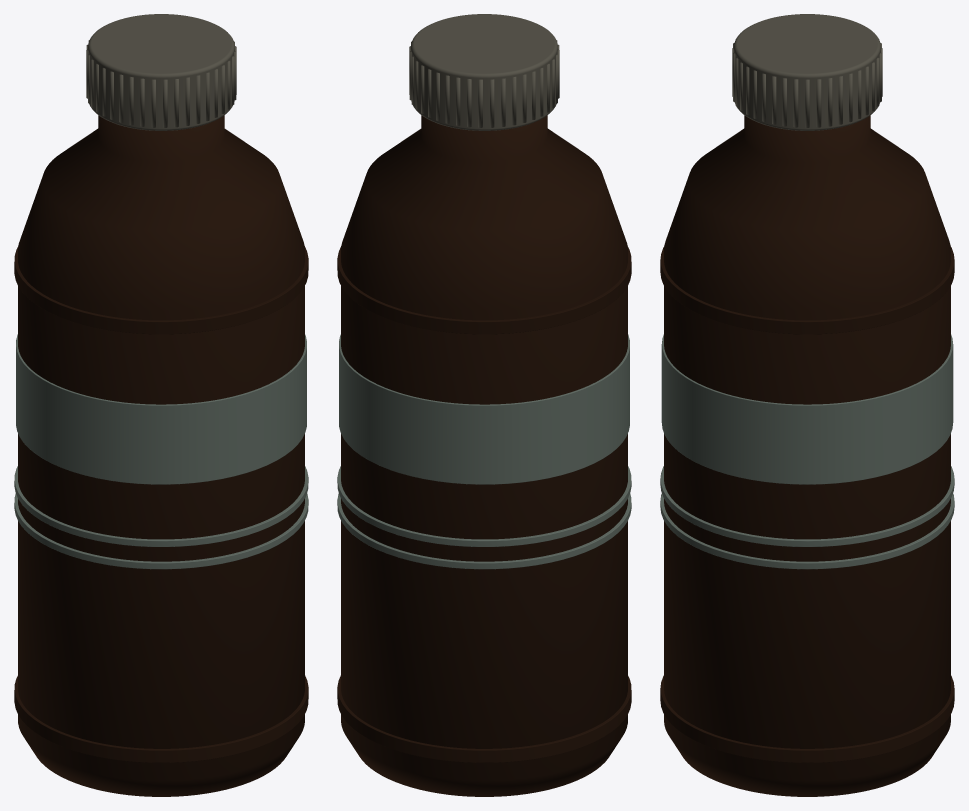
The model's file is C04_StopBottle.fbx.
3 renders of one model, left to right at view 1: azimuth 30°, elevation 25°; view 2: azimuth 150°, elevation 25°; view 3: azimuth 270°, elevation 25°, orthographic.
Visible parts, largest first — view 1: Body_Mesh, BottleCap_Mesh; view 2: Body_Mesh, BottleCap_Mesh; view 3: Body_Mesh, BottleCap_Mesh.
Boxes of the visible parts, box(x1,y1,x2,y2) form: Body_Mesh: box(14, 115, 308, 796); BottleCap_Mesh: box(86, 14, 236, 130); Body_Mesh: box(337, 115, 631, 796); BottleCap_Mesh: box(409, 14, 559, 130); Body_Mesh: box(660, 115, 954, 796); BottleCap_Mesh: box(732, 14, 882, 130).
Size of the model in its own units: 0.084 by 0.22 by 0.084.
